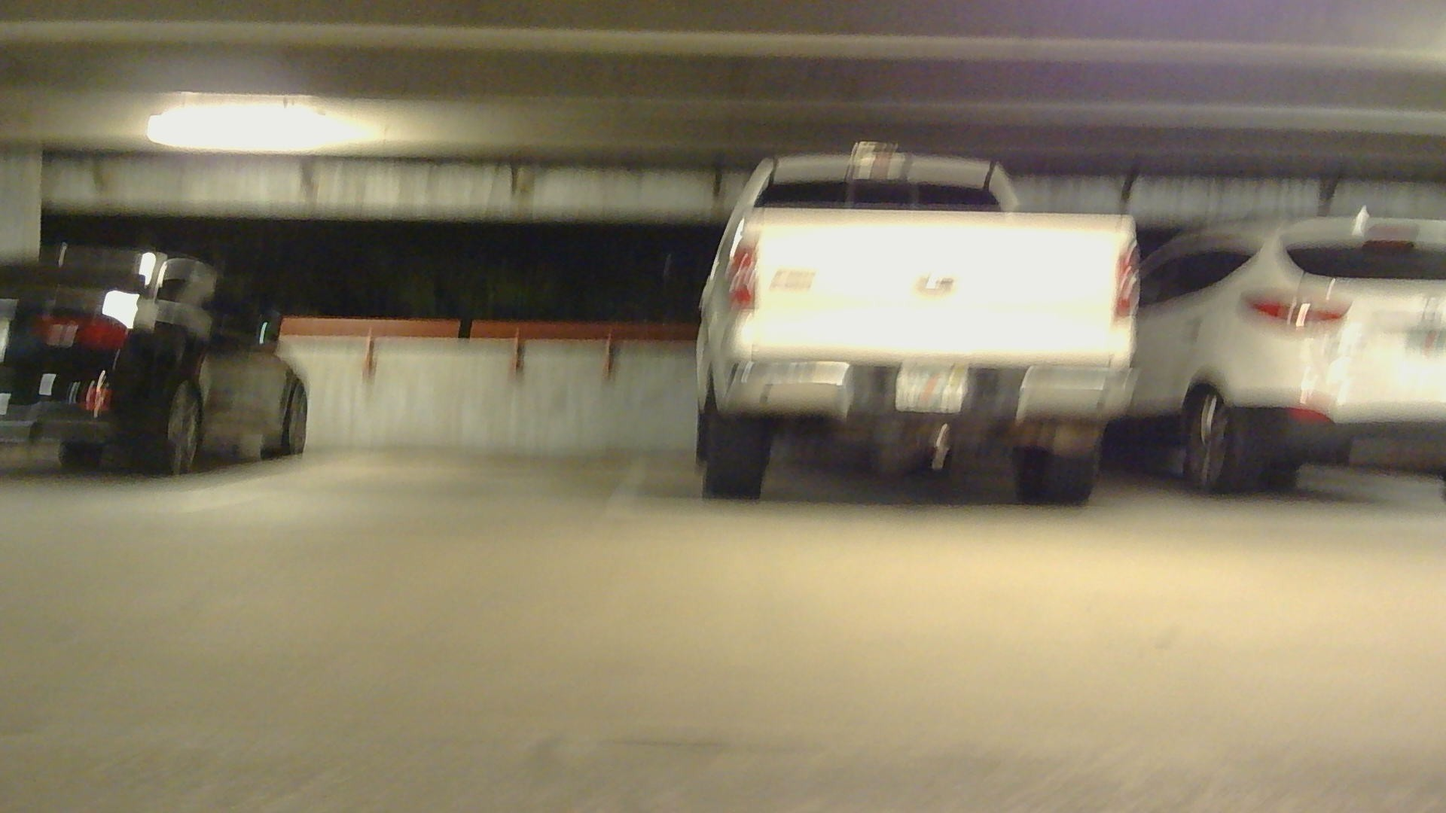empty_spot: (145, 389, 652, 518)
occupied_spot: (676, 128, 1159, 563), (1123, 215, 1444, 494), (2, 244, 323, 484)
